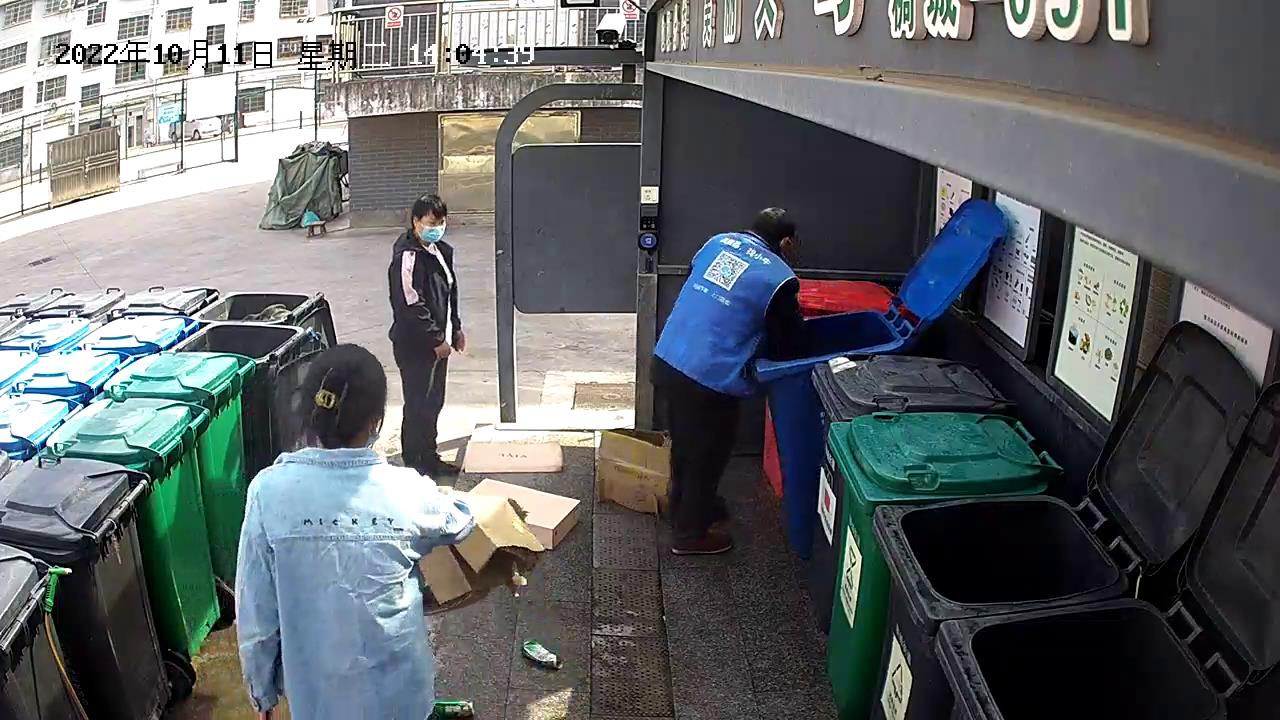person: (385, 191, 467, 480)
worker: (231, 342, 476, 720), (646, 203, 804, 560)
zhizhipin: (416, 477, 584, 607), (593, 423, 674, 519), (460, 434, 566, 477)
